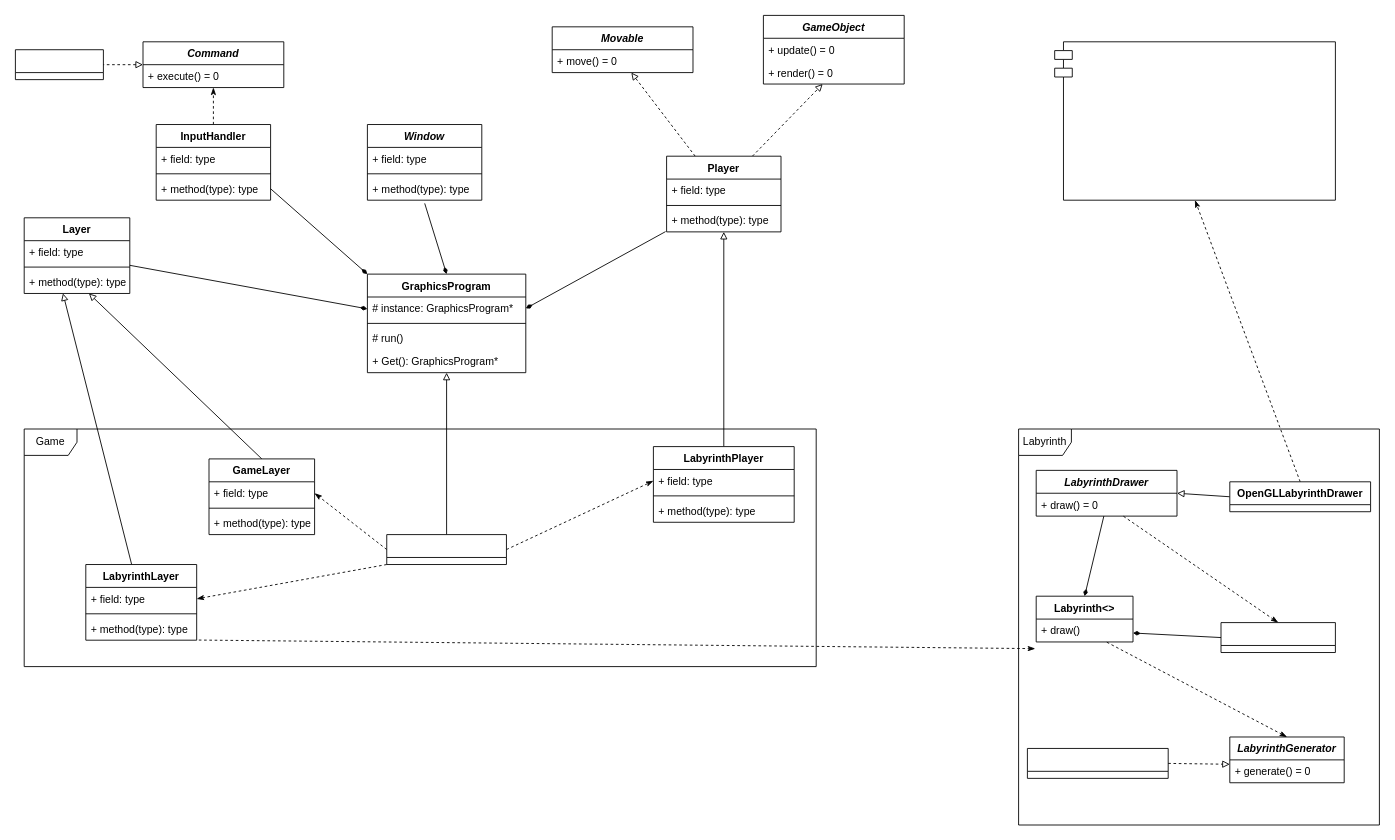
This 1395x840 diagram has some shape labels left out. Here are the shapes that lost their labels. From the top down, the centre of each, then its label:
the point at 59,64: ExitCommand
the point at 1194,120: Renderer API
the point at 446,549: LabyrinthGame
the point at 1277,637: LabyrinthData
the point at 1097,763: DefaultLabyrinthGenerator
